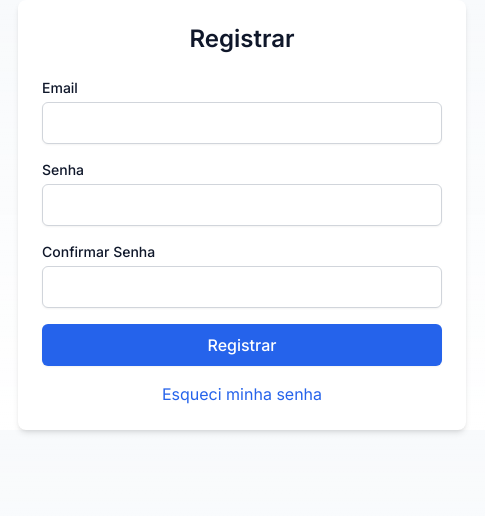
it: AuthForm › Register Mode › should handle registration error
Type "existing@example.com" into the field labelled "Email" at (242, 123), box x1=42 y1=102 x2=442 y2=144
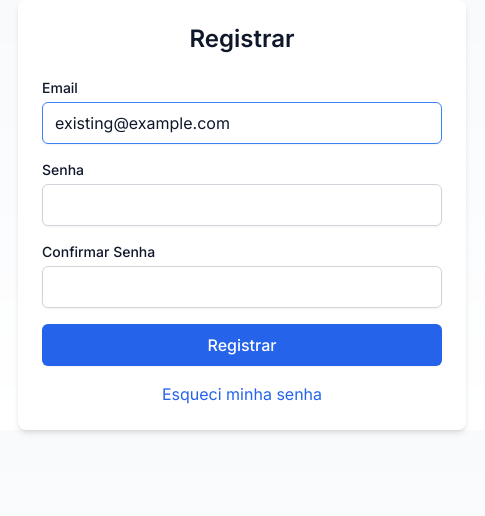
Type "password123" into the password field labelled "Senha" at (242, 205), box x1=42 y1=184 x2=442 y2=226
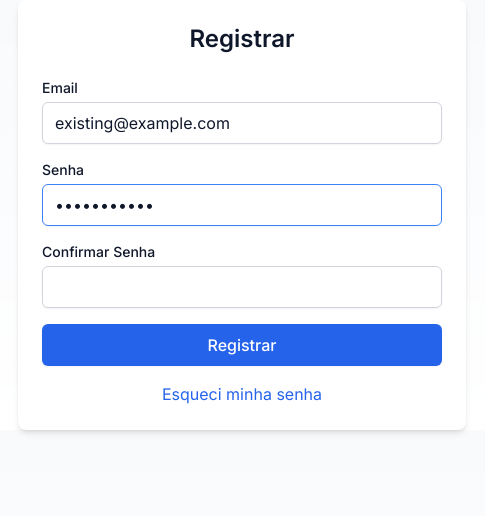
Type "password123" into the password field labelled "Confirmar Senha" at (242, 287), box x1=42 y1=266 x2=442 y2=308
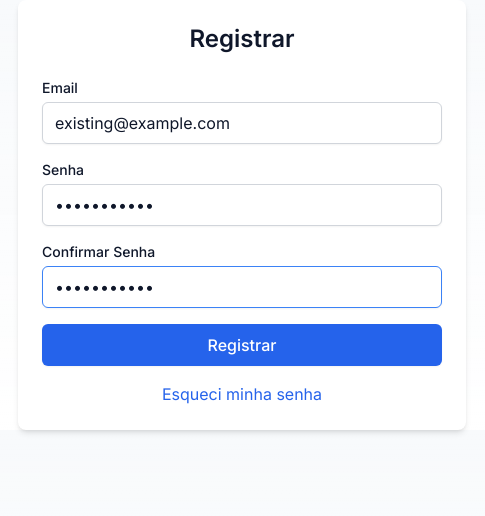
Click the button "Registrar" at (242, 345), box x1=42 y1=324 x2=442 y2=366
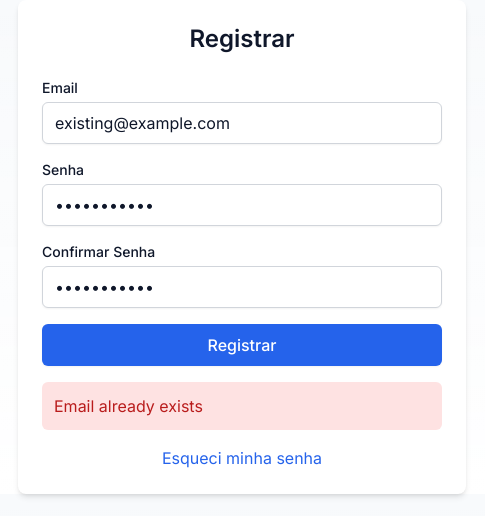
Result: the text "Email already exists" is shown at x1=42 y1=382 x2=442 y2=430
